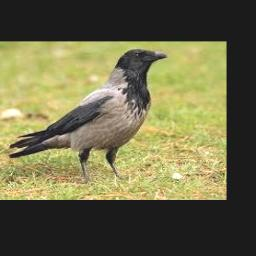Crow: (7, 48, 167, 181)
